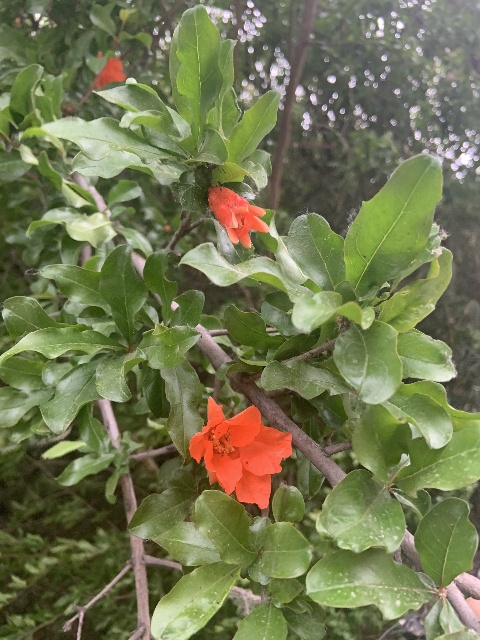flower: (189, 396, 292, 509), (206, 185, 268, 248), (94, 51, 126, 88)
